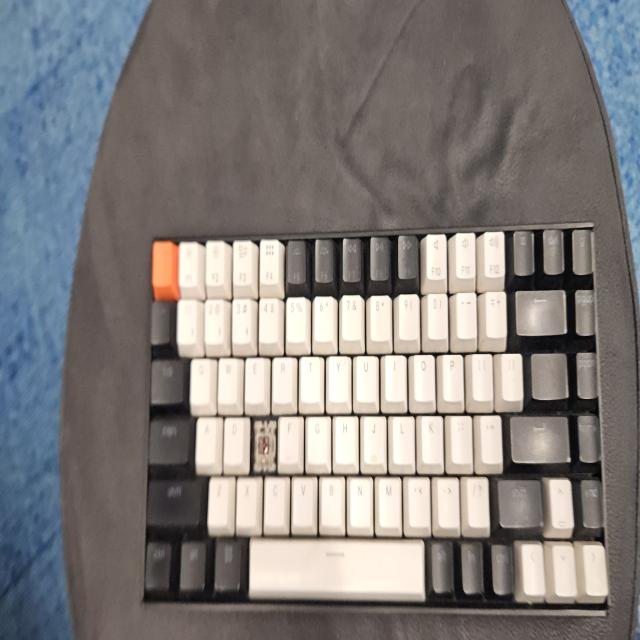C: (256, 423, 275, 471)
